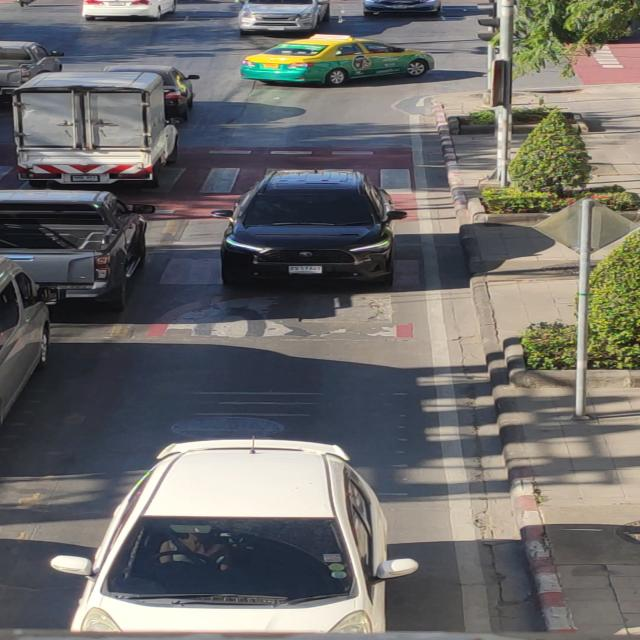car: (36, 439, 442, 635), (208, 170, 419, 300)
